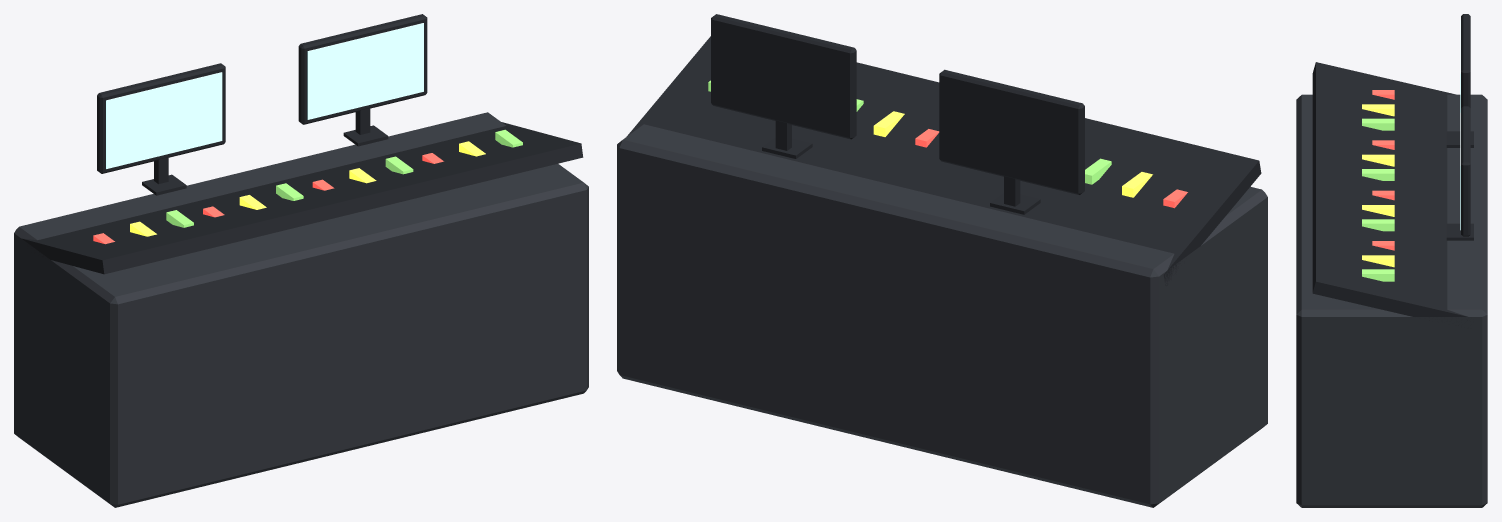
The model's file is control_desk.glb.
3 renders of one model, left to right at view 1: azimuth 30°, elevation 25°; view 2: azimuth 150°, elevation 25°; view 3: azimuth 270°, elevation 25°, orthographic. The views are drawn at different scales.
Parts seen in each view (by area): view 1: control_desk_mesh; view 2: control_desk_mesh; view 3: control_desk_mesh.
Part boxes in pixels (<box>): control_desk_mesh: <box>14,14,588,507</box>; control_desk_mesh: <box>617,14,1267,507</box>; control_desk_mesh: <box>1296,14,1487,507</box>.
Bounding box in the file's own units: 1.9 × 1.26 × 0.7.
